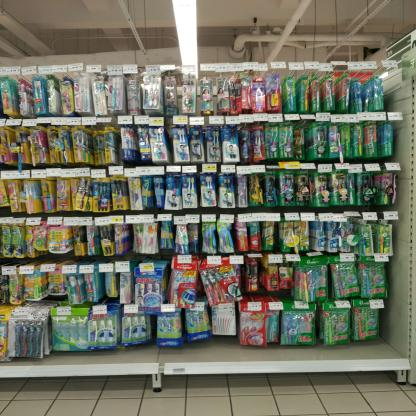Void: (166, 349, 400, 359), (52, 354, 156, 364)
